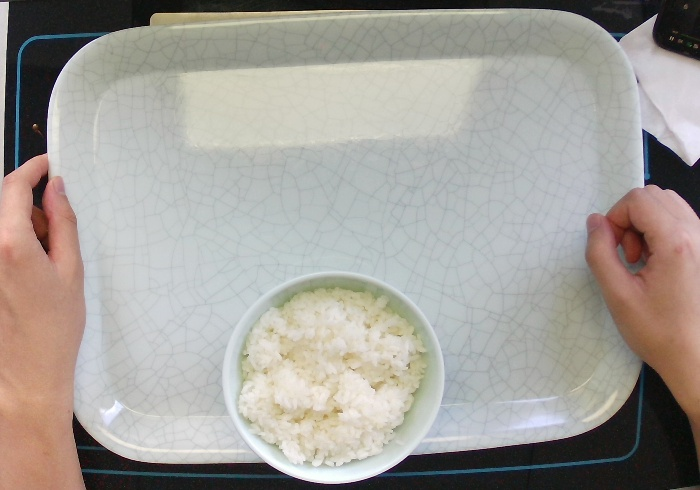JYsf-Fan_Wan: (220, 267, 446, 488)
